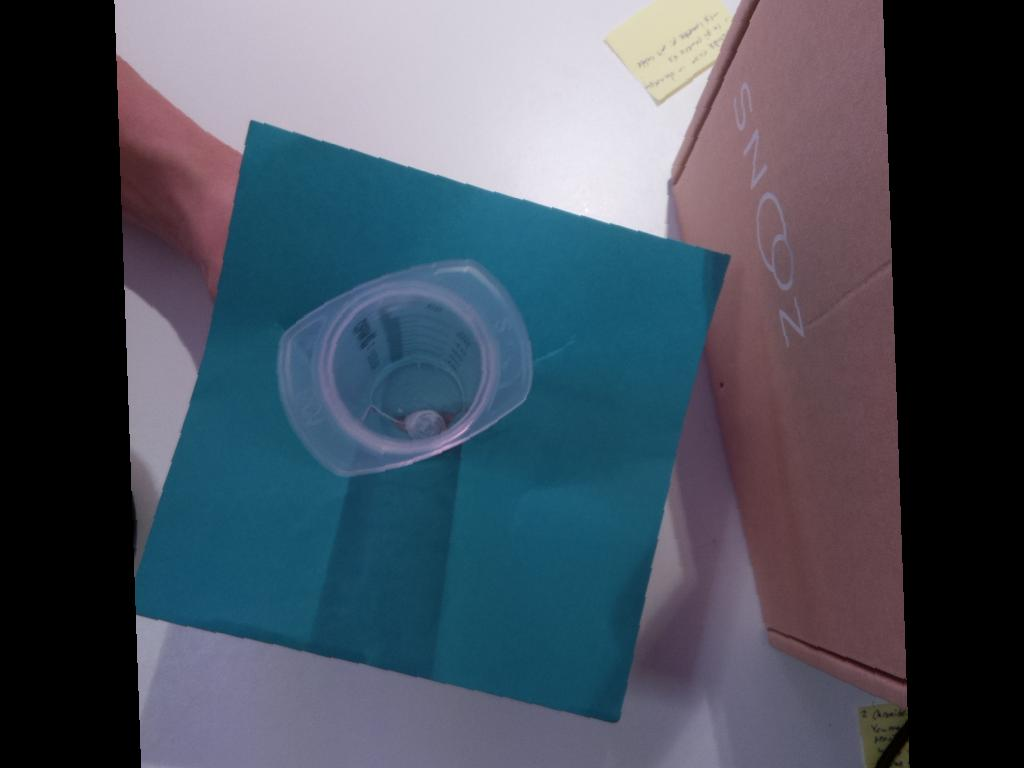clean: (275, 257, 535, 477)
